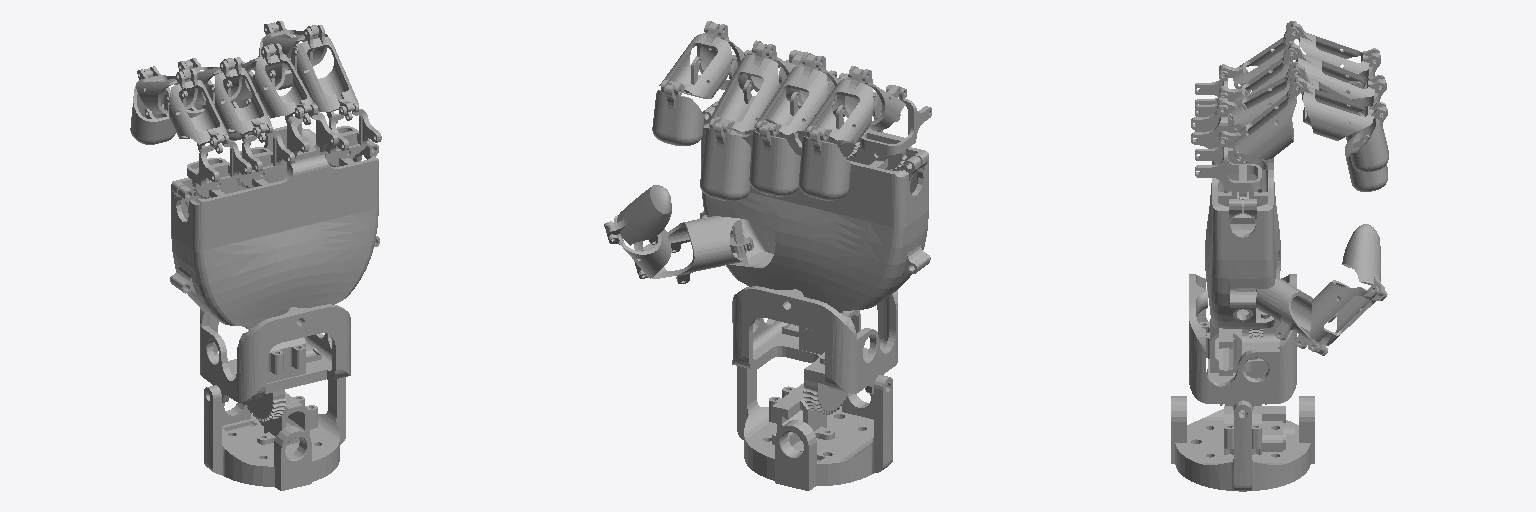
--- Facts derived from the render (not from the file) ---
3 views of the same robot in one strip: view 1: azimuth 30°, elevation 25°; view 2: azimuth 150°, elevation 25°; view 3: azimuth 270°, elevation 25° (orthographic).
Robot: P3_ROS — 21 links, 20 joints (20 revolute); root link AUBO_Base; default pose: all joints at 0 but 14 set to mid-range because 0 is outside their limits (Thumb_MCP = -1.21, Thumb_IP = -0.8858, Index_MCP = -0.855, Index_PIP = -1.08, Index_DIP = -0.9884, Middle_MCP = -1.04, +8 more).
Visible links, largest first — view 1: Knuckle_Holder, Below_Palm, AUBO_Base, I_MCP, P_MCP, M_MCP, R_MCP, P_Below_MCP, R_Below_MCP, I_Below_MCP, P_DIP, P_PIP (+3 smaller); view 2: Knuckle_Holder, Below_Palm, AUBO_Base, T_CMC, M_PIP, M_DIP, R_PIP, I_PIP, R_DIP, P_DIP, P_PIP, I_DIP (+7 smaller); view 3: Knuckle_Holder, AUBO_Base, Below_Palm, I_MCP, T_MCP, I_PIP, T_CMC, I_Below_MCP, R_PIP, T_IP, P_PIP, M_MCP (+5 smaller).
Link boxes in pixels (left/top/right/bottom): Knuckle_Holder: left=170, top=103, right=379, bottom=330; Below_Palm: left=200, top=304, right=350, bottom=421; AUBO_Base: left=204, top=377, right=345, bottom=490; I_MCP: left=297, top=25, right=358, bottom=122; P_MCP: left=169, top=68, right=227, bottom=155; M_MCP: left=255, top=43, right=313, bottom=124; R_MCP: left=215, top=57, right=271, bottom=144; P_Below_MCP: left=187, top=134, right=251, bottom=198; R_Below_MCP: left=236, top=124, right=294, bottom=187; I_Below_MCP: left=325, top=103, right=381, bottom=166; P_DIP: left=130, top=68, right=175, bottom=144; P_PIP: left=136, top=66, right=197, bottom=113; Knuckle_Holder: left=700, top=50, right=930, bottom=330; Below_Palm: left=732, top=286, right=897, bottom=414; AUBO_Base: left=737, top=366, right=892, bottom=490; T_CMC: left=634, top=216, right=753, bottom=283; M_PIP: left=708, top=43, right=778, bottom=133; M_DIP: left=700, top=123, right=750, bottom=200; R_PIP: left=754, top=54, right=827, bottom=136; I_PIP: left=659, top=23, right=731, bottom=98; R_DIP: left=749, top=125, right=800, bottom=196; P_DIP: left=799, top=129, right=850, bottom=200; P_PIP: left=804, top=68, right=872, bottom=143; I_DIP: left=652, top=85, right=704, bottom=145; Knuckle_Holder: left=1191, top=98, right=1280, bottom=338; AUBO_Base: left=1171, top=396, right=1314, bottom=491; Below_Palm: left=1189, top=274, right=1296, bottom=413; I_MCP: left=1219, top=75, right=1302, bottom=162; T_MCP: left=1310, top=280, right=1387, bottom=353; I_PIP: left=1294, top=78, right=1385, bottom=140; T_CMC: left=1256, top=277, right=1327, bottom=355; I_Below_MCP: left=1195, top=131, right=1261, bottom=207; R_PIP: left=1288, top=44, right=1384, bottom=99; T_IP: left=1342, top=224, right=1384, bottom=296; P_PIP: left=1291, top=23, right=1379, bottom=75; M_MCP: left=1218, top=61, right=1301, bottom=132.
Bounding box of the posed robot: 0.1485 × 0.1166 × 0.2467 m (x, y, z).
Meshes: 21 distinct files referenced, 21 mesh visuals loaded (21 binary STL).

robot.urdf — P3_ROS:
<?xml version="1.0" encoding="utf-8"?>
<!-- This URDF was automatically created by SolidWorks to URDF Exporter! Originally created by Stephen Brawner ([email redacted]) 
     Commit Version: 1.6.0-4-g7f85cfe  Build Version: 1.6.7995.38578
     For more information, please see http://wiki.ros.org/sw_urdf_exporter -->
<robot
  name="P3_ROS">
  <link
    name="AUBO_Base">
    <inertial>
      <origin
        xyz="0.00278040178371279 0.0137619089402064 -0.000267427347976779"
        rpy="0 0 0" />
      <mass
        value="0.0536915416174576" />
      <inertia
        ixx="2.70801043475091E-05"
        ixy="-4.02713297525871E-07"
        ixz="2.10419992156217E-07"
        iyy="4.87071775355948E-05"
        iyz="1.75973062686978E-07"
        izz="3.26759005649058E-05" />
    </inertial>
    <visual>
      <origin
        xyz="0 0 0"
        rpy="0 0 0" />
      <geometry>
        <mesh
          filename="package://P3_ROS/meshes/AUBO_Base.STL" />
      </geometry>
      <material
        name="">
        <color
          rgba="0.698039215686274 0.698039215686274 0.698039215686274 1" />
      </material>
    </visual>
    <collision>
      <origin
        xyz="0 0 0"
        rpy="0 0 0" />
      <geometry>
        <mesh
          filename="package://P3_ROS/meshes/AUBO_Base.STL" />
      </geometry>
    </collision>
  </link>
  <link
    name="Below_Palm">
    <inertial>
      <origin
        xyz="-0.00161904873633678 0.0170034509609812 0.000924243542658435"
        rpy="0 0 0" />
      <mass
        value="0.0583769628757469" />
      <inertia
        ixx="4.54620375746746E-05"
        ixy="-3.49858982409835E-07"
        ixz="2.96293190384862E-07"
        iyy="4.71250564940575E-05"
        iyz="-1.72909999743254E-06"
        izz="3.52450763174062E-05" />
    </inertial>
    <visual>
      <origin
        xyz="0 0 0"
        rpy="0 0 0" />
      <geometry>
        <mesh
          filename="package://P3_ROS/meshes/Below_Palm.STL" />
      </geometry>
      <material
        name="">
        <color
          rgba="0.698039215686274 0.698039215686274 0.698039215686274 1" />
      </material>
    </visual>
    <collision>
      <origin
        xyz="0 0 0"
        rpy="0 0 0" />
      <geometry>
        <mesh
          filename="package://P3_ROS/meshes/Below_Palm.STL" />
      </geometry>
    </collision>
  </link>
  <joint
    name="Wrist_2"
    type="revolute">
    <origin
      xyz="0 0 0.049"
      rpy="1.5708 0 1.5708" />
    <parent
      link="AUBO_Base" />
    <child
      link="Below_Palm" />
    <axis
      xyz="0 0 1" />
    <limit
      lower="-1.1294"
      upper="1.2489"
      effort="0"
      velocity="0" />
  </joint>
  <link
    name="Knuckle_Holder">
    <inertial>
      <origin
        xyz="0.00127180755281365 0.0369506250760439 -0.00063534532092032"
        rpy="0 0 0" />
      <mass
        value="0.116848968632615" />
      <inertia
        ixx="0.000126096351062626"
        ixy="7.84970809749604E-06"
        ixz="-2.9838290073608E-06"
        iyy="0.000151450089009521"
        iyz="2.70550323065712E-06"
        izz="0.000236651192540967" />
    </inertial>
    <visual>
      <origin
        xyz="0 0 0"
        rpy="0 0 0" />
      <geometry>
        <mesh
          filename="package://P3_ROS/meshes/Knuckle_Holder.STL" />
      </geometry>
      <material
        name="">
        <color
          rgba="0.698039215686274 0.698039215686274 0.698039215686274 1" />
      </material>
    </visual>
    <collision>
      <origin
        xyz="0 0 0"
        rpy="0 0 0" />
      <geometry>
        <mesh
          filename="package://P3_ROS/meshes/Knuckle_Holder.STL" />
      </geometry>
    </collision>
  </link>
  <joint
    name="Wrist_1"
    type="revolute">
    <origin
      xyz="0 0.048 0.0027545"
      rpy="0 1.5708 0" />
    <parent
      link="Below_Palm" />
    <child
      link="Knuckle_Holder" />
    <axis
      xyz="0 0 1" />
    <limit
      lower="-0.41544"
      upper="0.41544"
      effort="0"
      velocity="0" />
  </joint>
  <link
    name="T_CMC">
    <inertial>
      <origin
        xyz="-0.0188547439499926 0.0171938818918783 -0.02142438462294"
        rpy="0 0 0" />
      <mass
        value="0.00757646844060059" />
      <inertia
        ixx="1.8547197356156E-06"
        ixy="3.95328998638882E-08"
        ixz="-4.21686926967571E-08"
        iyy="8.95427700424448E-07"
        iyz="-2.71565458332892E-07"
        izz="2.01850506438788E-06" />
    </inertial>
    <visual>
      <origin
        xyz="0 0 0"
        rpy="0 0 0" />
      <geometry>
        <mesh
          filename="package://P3_ROS/meshes/T_CMC.STL" />
      </geometry>
      <material
        name="">
        <color
          rgba="0.698039215686274 0.698039215686274 0.698039215686274 1" />
      </material>
    </visual>
    <collision>
      <origin
        xyz="0 0 0"
        rpy="0 0 0" />
      <geometry>
        <mesh
          filename="package://P3_ROS/meshes/T_CMC.STL" />
      </geometry>
    </collision>
  </link>
  <joint
    name="Thumb_CMC"
    type="revolute">
    <origin
      xyz="-0.03389 -0.0067732 0.011594"
      rpy="2.1814 -0.59941 -0.7352" />
    <parent
      link="Knuckle_Holder" />
    <child
      link="T_CMC" />
    <axis
      xyz="0.64279 0 0.76604" />
    <limit
      lower="-1.5708"
      upper="0"
      effort="0"
      velocity="0" />
  </joint>
  <link
    name="T_MCP">
    <inertial>
      <origin
        xyz="-0.0191724859142255 0.0222044167762714 -0.0105839597746515"
        rpy="0 0 0" />
      <mass
        value="0.00341830832417688" />
      <inertia
        ixx="5.43824756092306E-07"
        ixy="4.39696982794731E-12"
        ixz="-1.36130893885665E-11"
        iyy="4.21320145077056E-07"
        iyz="1.45881129591116E-08"
        izz="6.4153361173526E-07" />
    </inertial>
    <visual>
      <origin
        xyz="0 0 0"
        rpy="0 0 0" />
      <geometry>
        <mesh
          filename="package://P3_ROS/meshes/T_MCP.STL" />
      </geometry>
      <material
        name="">
        <color
          rgba="0.698039215686274 0.698039215686274 0.698039215686274 1" />
      </material>
    </visual>
    <collision>
      <origin
        xyz="0 0 0"
        rpy="0 0 0" />
      <geometry>
        <mesh
          filename="package://P3_ROS/meshes/T_MCP.STL" />
      </geometry>
    </collision>
  </link>
  <joint
    name="Thumb_MCP"
    type="revolute">
    <origin
      xyz="0 0.051 -0.011349"
      rpy="0.024222 0 0" />
    <parent
      link="T_CMC" />
    <child
      link="T_MCP" />
    <axis
      xyz="1 0 0" />
    <limit
      lower="-1.5528"
      upper="-0.86457"
      effort="0"
      velocity="0" />
  </joint>
  <link
    name="T_IP">
    <inertial>
      <origin
        xyz="-0.019153877270479 0.0208567015566215 -0.011166175758786"
        rpy="0 0 0" />
      <mass
        value="0.00367311050909873" />
      <inertia
        ixx="3.21810615947136E-07"
        ixy="2.91776079744812E-11"
        ixz="-5.04769074712269E-10"
        iyy="2.60686503696625E-07"
        iyz="7.12951435821031E-08"
        izz="3.29785541515355E-07" />
    </inertial>
    <visual>
      <origin
        xyz="0 0 0"
        rpy="0 0 0" />
      <geometry>
        <mesh
          filename="package://P3_ROS/meshes/T_IP.STL" />
      </geometry>
      <material
        name="">
        <color
          rgba="0.698039215686274 0.698039215686274 0.698039215686274 1" />
      </material>
    </visual>
    <collision>
      <origin
        xyz="0 0 0"
        rpy="0 0 0" />
      <geometry>
        <mesh
          filename="package://P3_ROS/meshes/T_IP.STL" />
      </geometry>
    </collision>
  </link>
  <joint
    name="Thumb_IP"
    type="revolute">
    <origin
      xyz="0 0.0465 0"
      rpy="0.0052649 0 0" />
    <parent
      link="T_MCP" />
    <child
      link="T_IP" />
    <axis
      xyz="1 0 0" />
    <limit
      lower="-1.23306"
      upper="-0.538504"
      effort="0"
      velocity="0" />
  </joint>
  <link
    name="I_Below_MCP">
    <inertial>
      <origin
        xyz="-1.91332690316348E-08 0.00523994189276999 0.00438611499640017"
        rpy="0 0 0" />
      <mass
        value="0.00534951941489969" />
      <inertia
        ixx="7.32906606259805E-07"
        ixy="-1.39714191646785E-14"
        ixz="-8.65569458872673E-12"
        iyy="6.96470076212018E-07"
        iyz="-2.16946811935413E-07"
        izz="7.16960840620401E-07" />
    </inertial>
    <visual>
      <origin
        xyz="0 0 0"
        rpy="0 0 0" />
      <geometry>
        <mesh
          filename="package://P3_ROS/meshes/I_Below_MCP.STL" />
      </geometry>
      <material
        name="">
        <color
          rgba="0.698039215686274 0.698039215686274 0.698039215686274 1" />
      </material>
    </visual>
    <collision>
      <origin
        xyz="0 0 0"
        rpy="0 0 0" />
      <geometry>
        <mesh
          filename="package://P3_ROS/meshes/I_Below_MCP.STL" />
      </geometry>
    </collision>
  </link>
  <joint
    name="Index_Below_MCP"
    type="revolute">
    <origin
      xyz="-0.042 0.087 0"
      rpy="3.1416 0 -3.1416" />
    <parent
      link="Knuckle_Holder" />
    <child
      link="I_Below_MCP" />
    <axis
      xyz="0 0 1" />
    <limit
      lower="-0.52018"
      upper="0"
      effort="0"
      velocity="0" />
  </joint>
  <link
    name="I_MCP">
    <inertial>
      <origin
        xyz="1.60706075696959E-07 0.0214534559005647 -0.0126089340150891"
        rpy="0 0 0" />
      <mass
        value="0.0042784827079899" />
      <inertia
        ixx="8.95459066830798E-07"
        ixy="5.52207282220504E-13"
        ixz="1.00727231307694E-11"
        iyy="5.21814062850473E-07"
        iyz="-2.37787524308387E-08"
        izz="1.02538663795254E-06" />
    </inertial>
    <visual>
      <origin
        xyz="0 0 0"
        rpy="0 0 0" />
      <geometry>
        <mesh
          filename="package://P3_ROS/meshes/I_MCP.STL" />
      </geometry>
      <material
        name="">
        <color
          rgba="0.698039215686274 0.698039215686274 0.698039215686274 1" />
      </material>
    </visual>
    <collision>
      <origin
        xyz="0 0 0"
        rpy="0 0 0" />
      <geometry>
        <mesh
          filename="package://P3_ROS/meshes/I_MCP.STL" />
      </geometry>
    </collision>
  </link>
  <joint
    name="Index_MCP"
    type="revolute">
    <origin
      xyz="0 0.028 0.0105"
      rpy="0 0 0" />
    <parent
      link="I_Below_MCP" />
    <child
      link="I_MCP" />
    <axis
      xyz="1 0 0" />
    <limit
      lower="-1.3654"
      upper="-0.34457"
      effort="0"
      velocity="0" />
  </joint>
  <link
    name="I_PIP">
    <inertial>
      <origin
        xyz="0.0104745637601555 0.0225277058184466 -5.84985698770524E-08"
        rpy="0 0 0" />
      <mass
        value="0.00371498527382687" />
      <inertia
        ixx="7.38341931114289E-07"
        ixy="-4.06415607145458E-09"
        ixz="-1.83681530443573E-11"
        iyy="4.59557692097787E-07"
        iyz="3.38393387626485E-12"
        izz="6.17675084887777E-07" />
    </inertial>
    <visual>
      <origin
        xyz="0 0 0"
        rpy="0 0 0" />
      <geometry>
        <mesh
          filename="package://P3_ROS/meshes/I_PIP.STL" />
      </geometry>
      <material
        name="">
        <color
          rgba="0.698039215686274 0.698039215686274 0.698039215686274 1" />
      </material>
    </visual>
    <collision>
      <origin
        xyz="0 0 0"
        rpy="0 0 0" />
      <geometry>
        <mesh
          filename="package://P3_ROS/meshes/I_PIP.STL" />
      </geometry>
    </collision>
  </link>
  <joint
    name="Index_PIP"
    type="revolute">
    <origin
      xyz="0 0.051 -0.00225"
      rpy="1.5708 1.5514 1.5708" />
    <parent
      link="I_MCP" />
    <child
      link="I_PIP" />
    <axis
      xyz="0 0 1" />
    <limit
      lower="-1.4455"
      upper="-0.7113"
      effort="0"
      velocity="0" />
  </joint>
  <link
    name="I_DIP">
    <inertial>
      <origin
        xyz="0.0102174474149143 0.0199762603712053 2.46091446727548E-07"
        rpy="0 0 0" />
      <mass
        value="0.00425159376419967" />
      <inertia
        ixx="4.98356420749076E-07"
        ixy="-9.57564593733141E-08"
        ixz="1.60587365235624E-11"
        iyy="4.23167175698519E-07"
        iyz="1.30948453717986E-11"
        izz="4.28705970306008E-07" />
    </inertial>
    <visual>
      <origin
        xyz="0 0 0"
        rpy="0 0 0" />
      <geometry>
        <mesh
          filename="package://P3_ROS/meshes/I_DIP.STL" />
      </geometry>
      <material
        name="">
        <color
          rgba="0.698039215686274 0.698039215686274 0.698039215686274 1" />
      </material>
    </visual>
    <collision>
      <origin
        xyz="0 0 0"
        rpy="0 0 0" />
      <geometry>
        <mesh
          filename="package://P3_ROS/meshes/I_DIP.STL" />
      </geometry>
    </collision>
  </link>
  <joint
    name="Index_DIP"
    type="revolute">
    <origin
      xyz="0 0.048 0"
      rpy="0 0 -0.019349" />
    <parent
      link="I_PIP" />
    <child
      link="I_DIP" />
    <axis
      xyz="0 0 1" />
    <limit
      lower="-1.337445"
      upper="-0.6394"
      effort="0"
      velocity="0" />
  </joint>
  <link
    name="M_MCP">
    <inertial>
      <origin
        xyz="0.0130000993756648 0.0194738060288053 -0.0122615751764491"
        rpy="0 0 0" />
      <mass
        value="0.00356183832705754" />
      <inertia
        ixx="6.33645316662712E-07"
        ixy="-7.48322283457872E-13"
        ixz="6.42992202281087E-13"
        iyy="4.32226138228889E-07"
        iyz="-2.1398582434494E-08"
        izz="7.46627420187009E-07" />
    </inertial>
    <visual>
      <origin
        xyz="0 0 0"
        rpy="0 0 0" />
      <geometry>
        <mesh
          filename="package://P3_ROS/meshes/M_MCP.STL" />
      </geometry>
      <material
        name="">
        <color
          rgba="0.698039215686274 0.698039215686274 0.698039215686274 1" />
      </material>
    </visual>
    <collision>
      <origin
        xyz="0 0 0"
        rpy="0 0 0" />
      <geometry>
        <mesh
          filename="package://P3_ROS/meshes/M_MCP.STL" />
      </geometry>
    </collision>
  </link>
  <joint
    name="Middle_MCP"
    type="revolute">
    <origin
      xyz="-0.001 0.121 -0.01094"
      rpy="3.1416 0 -3.1416" />
    <parent
      link="Knuckle_Holder" />
    <child
      link="M_MCP" />
    <axis
      xyz="1 0 0" />
    <limit
      lower="-1.4628"
      upper="-0.61793"
      effort="0"
      velocity="0" />
  </joint>
  <link
    name="M_PIP">
    <inertial>
      <origin
        xyz="0.0129994238022933 0.0252582720879362 -0.0108332662698445"
        rpy="0 0 0" />
      <mass
        value="0.0042553891681153" />
      <inertia
        ixx="8.07748529628043E-07"
        ixy="4.68568994911255E-11"
        ixz="-3.58312710518182E-11"
        iyy="5.2753515678823E-07"
        iyz="3.2166787078737E-08"
        izz="9.1440891219387E-07" />
    </inertial>
    <visual>
      <origin
        xyz="0 0 0"
        rpy="0 0 0" />
      <geometry>
        <mesh
          filename="package://P3_ROS/meshes/M_PIP.STL" />
      </geometry>
      <material
        name="">
        <color
          rgba="0.698039215686274 0.698039215686274 0.698039215686274 1" />
      </material>
    </visual>
    <collision>
      <origin
        xyz="0 0 0"
        rpy="0 0 0" />
      <geometry>
        <mesh
          filename="package://P3_ROS/meshes/M_PIP.STL" />
      </geometry>
    </collision>
  </link>
  <joint
    name="Middle_PIP"
    type="revolute">
    <origin
      xyz="0 0.045 -0.00225"
      rpy="0 0 0" />
    <parent
      link="M_MCP" />
    <child
      link="M_PIP" />
    <axis
      xyz="1 0 0" />
    <limit
      lower="-1.40814"
      upper="-0.74815"
      effort="0"
      velocity="0" />
  </joint>
  <link
    name="M_DIP">
    <inertial>
      <origin
        xyz="0.0129999509487357 0.0249602568688863 -0.0106926657966948"
        rpy="0 0 0" />
      <mass
        value="0.00577415599836008" />
      <inertia
        ixx="8.72036436536961E-07"
        ixy="1.19263359390556E-12"
        ixz="-3.90884366578215E-12"
        iyy="6.22688915702931E-07"
        iyz="1.33056795383682E-07"
        izz="9.77941426673379E-07" />
    </inertial>
    <visual>
      <origin
        xyz="0 0 0"
        rpy="0 0 0" />
      <geometry>
        <mesh
          filename="package://P3_ROS/meshes/M_DIP.STL" />
      </geometry>
      <material
        name="">
        <color
          rgba="0.698039215686274 0.698039215686274 0.698039215686274 1" />
      </material>
    </visual>
    <collision>
      <origin
        xyz="0 0 0"
        rpy="0 0 0" />
      <geometry>
        <mesh
          filename="package://P3_ROS/meshes/M_DIP.STL" />
      </geometry>
    </collision>
  </link>
  <joint
    name="Middle_DIP"
    type="revolute">
    <origin
      xyz="0 0.0515 0"
      rpy="0 0 0" />
    <parent
      link="M_PIP" />
    <child
      link="M_DIP" />
    <axis
      xyz="1 0 0" />
    <limit
      lower="-1.18872"
      upper="-0.45629"
      effort="0"
      velocity="0" />
  </joint>
  <link
    name="R_Below_MCP">
    <inertial>
      <origin
        xyz="1.38844317265421E-05 0.00524049779639665 -0.00438623992796771"
        rpy="0 0 0" />
      <mass
        value="0.00534942423056677" />
      <inertia
        ixx="7.32859981842569E-07"
        ixy="5.24609861584903E-10"
        ixz="-3.19407087097254E-10"
        iyy="6.96474845170847E-07"
        iyz="2.16933899555169E-07"
        izz="7.16930179843202E-07" />
    </inertial>
    <visual>
      <origin
        xyz="0 0 0"
        rpy="0 0 0" />
      <geometry>
        <mesh
          filename="package://P3_ROS/meshes/R_Below_MCP.STL" />
      </geometry>
      <material
        name="">
        <color
          rgba="0.698039215686274 0.698039215686274 0.698039215686274 1" />
      </material>
    </visual>
    <collision>
      <origin
        xyz="0 0 0"
        rpy="0 0 0" />
      <geometry>
        <mesh
          filename="package://P3_ROS/meshes/R_Below_MCP.STL" />
      </geometry>
    </collision>
  </link>
  <joint
    name="Ring_Below_MCP"
    type="revolute">
    <origin
      xyz="0.014 0.087 0"
      rpy="0 0 0" />
    <parent
      link="Knuckle_Holder" />
    <child
      link="R_Below_MCP" />
    <axis
      xyz="0 0 1" />
    <limit
      lower="-0.52018"
      upper="0"
      effort="0"
      velocity="0" />
  </joint>
  <link
    name="R_MCP">
    <inertial>
      <origin
        xyz="-4.65256594625596E-07 0.0189676045429669 -0.0120949901547308"
        rpy="0 0 0" />
      <mass
        value="0.00326985606176487" />
      <inertia
        ixx="5.88389022236639E-07"
        ixy="1.46189274353886E-11"
        ixz="-2.92986706885711E-11"
        iyy="3.86293542414919E-07"
        iyz="-2.05284784668316E-08"
        izz="6.57972639542673E-07" />
    </inertial>
    <visual>
      <origin
        xyz="0 0 0"
        rpy="0 0 0" />
      <geometry>
        <mesh
          filename="package://P3_ROS/meshes/R_MCP.STL" />
      </geometry>
      <material
        name="">
        <color
          rgba="0.698039215686274 0.698039215686274 0.698039215686274 1" />
      </material>
    </visual>
    <collision>
      <origin
        xyz="0 0 0"
        rpy="0 0 0" />
      <geometry>
        <mesh
          filename="package://P3_ROS/meshes/R_MCP.STL" />
      </geometry>
    </collision>
  </link>
  <joint
    name="Ring_MCP"
    type="revolute">
    <origin
      xyz="0 0.028 -0.0105"
      rpy="3.1416 0 3.1416" />
    <parent
      link="R_Below_MCP" />
    <child
      link="R_MCP" />
    <axis
      xyz="1 0 0" />
    <limit
      lower="-1.356995"
      upper="-0.470253"
      effort="0"
      velocity="0" />
  </joint>
  <link
    name="R_PIP">
    <inertial>
      <origin
        xyz="1.53922076234075E-06 0.023310450256673 -0.00984437691935296"
        rpy="0 0 0" />
      <mass
        value="0.00384900712618792" />
      <inertia
        ixx="7.15539545157502E-07"
        ixy="-4.66393665863244E-11"
        ixz="5.13601987777356E-11"
        iyy="4.60134113785076E-07"
        iyz="1.20538888918569E-08"
        izz="8.05246178054023E-07" />
    </inertial>
    <visual>
      <origin
        xyz="0 0 0"
        rpy="0 0 0" />
      <geometry>
        <mesh
          filename="package://P3_ROS/meshes/R_PIP.STL" />
      </geometry>
      <material
        name="">
        <color
          rgba="0.698039215686274 0.698039215686274 0.698039215686274 1" />
      </material>
    </visual>
    <collision>
      <origin
        xyz="0 0 0"
        rpy="0 0 0" />
      <geometry>
        <mesh
          filename="package://P3_ROS/meshes/R_PIP.STL" />
      </geometry>
    </collision>
  </link>
  <joint
    name="Ring_PIP"
    type="revolute">
    <origin
      xyz="0 0.045 -0.00225"
      rpy="0 0 0" />
    <parent
      link="R_MCP" />
    <child
      link="R_PIP" />
    <axis
      xyz="1 0 0" />
    <limit
      lower="-1.419486"
      upper="-0.691415"
      effort="0"
      velocity="0" />
  </joint>
  <link
    name="R_DIP">
    <inertial>
      <origin
        xyz="2.09227845606244E-07 0.024421248294507 -0.010469334340024"
        rpy="0 0 0" />
      <mass
        value="0.00511134145781505" />
      <inertia
        ixx="6.74826649967002E-07"
        ixy="1.29937901533371E-11"
        ixz="-3.05204360154962E-11"
        iyy="5.28552356982958E-07"
        iyz="1.26608709839672E-07"
        izz="7.46443382031746E-07" />
    </inertial>
    <visual>
      <origin
        xyz="0 0 0"
        rpy="0 0 0" />
      <geometry>
        <mesh
          filename="package://P3_ROS/meshes/R_DIP.STL" />
      </geometry>
      <material
        name="">
        <color
          rgba="0.698039215686274 0.698039215686274 0.698039215686274 1" />
      </material>
    </visual>
    <collision>
      <origin
        xyz="0 0 0"
        rpy="0 0 0" />
      <geometry>
        <mesh
          filename="package://P3_ROS/meshes/R_DIP.STL" />
      </geometry>
    </collision>
  </link>
  <joint
    name="Ring_DIP"
    type="revolute">
    <origin
      xyz="0 0.0515 0"
      rpy="0 0 0" />
    <parent
      link="R_PIP" />
    <child
      link="R_DIP" />
    <axis
      xyz="1 0 0" />
    <limit
      lower="-1.396095"
      upper="-0.708346"
      effort="0"
      velocity="0" />
  </joint>
  <link
    name="P_Below_MCP">
    <inertial>
      <origin
        xyz="8.41060112070913E-06 0.00526126613307609 -0.00439536374453332"
        rpy="0 0 0" />
      <mass
        value="0.00533831973770942" />
      <inertia
        ixx="7.31356207626987E-07"
        ixy="3.54914233705556E-10"
        ixz="-1.91691840441875E-10"
        iyy="6.9519118586746E-07"
        iyz="2.1644634707244E-07"
        izz="7.14609570286138E-07" />
    </inertial>
    <visual>
      <origin
        xyz="0 0 0"
        rpy="0 0 0" />
      <geometry>
        <mesh
          filename="package://P3_ROS/meshes/P_Below_MCP.STL" />
      </geometry>
      <material
        name="">
        <color
          rgba="0.698039215686274 0.698039215686274 0.698039215686274 1" />
      </material>
    </visual>
    <collision>
      <origin
        xyz="0 0 0"
        rpy="0 0 0" />
      <geometry>
        <mesh
          filename="package://P3_ROS/meshes/P_Below_MCP.STL" />
      </geometry>
    </collision>
  </link>
  <joint
    name="Pinky_Below_MCP"
    type="revolute">
    <origin
      xyz="0.042 0.087 0"
      rpy="0 0 0" />
    <parent
      link="Knuckle_Holder" />
    <child
      link="P_Below_MCP" />
    <axis
      xyz="0 0 1" />
    <limit
      lower="-0.74186"
      upper="0"
      effort="0"
      velocity="0" />
  </joint>
  <link
    name="P_MCP">
    <inertial>
      <origin
        xyz="-2.62886995769374E-07 0.0207434675492707 -0.011885339397321"
        rpy="0 0 0" />
      <mass
        value="0.00321336885733434" />
      <inertia
        ixx="6.01915424286415E-07"
        ixy="1.56668207946324E-11"
        ixz="-1.73583370408102E-11"
        iyy="3.7581939994914E-07"
        iyz="7.42197186572937E-09"
        izz="6.71567299326979E-07" />
    </inertial>
    <visual>
      <origin
        xyz="0 0 0"
        rpy="0 0 0" />
      <geometry>
        <mesh
          filename="package://P3_ROS/meshes/P_MCP.STL" />
      </geometry>
      <material
        name="">
        <color
          rgba="0.698039215686274 0.698039215686274 0.698039215686274 1" />
      </material>
    </visual>
    <collision>
      <origin
        xyz="0 0 0"
        rpy="0 0 0" />
      <geometry>
        <mesh
          filename="package://P3_ROS/meshes/P_MCP.STL" />
      </geometry>
    </collision>
  </link>
  <joint
    name="Pinky_MCP"
    type="revolute">
    <origin
      xyz="0 0.028 -0.0105"
      rpy="3.1416 0 3.1416" />
    <parent
      link="P_Below_MCP" />
    <child
      link="P_MCP" />
    <axis
      xyz="1 0 0" />
    <limit
      lower="-1.4134"
      upper="-0.46659"
      effort="0"
      velocity="0" />
  </joint>
  <link
    name="P_PIP">
    <inertial>
      <origin
        xyz="9.0053990615957E-07 0.0224316850854916 -0.00994106588374115"
        rpy="0 0 0" />
      <mass
        value="0.00337816858545398" />
      <inertia
        ixx="5.58901296964282E-07"
        ixy="7.55022683985797E-11"
        ixz="-7.14447678655336E-11"
        iyy="4.08812318893672E-07"
        iyz="1.14510097354083E-08"
        izz="6.47621020420649E-07" />
    </inertial>
    <visual>
      <origin
        xyz="0 0 0"
        rpy="0 0 0" />
      <geometry>
        <mesh
          filename="package://P3_ROS/meshes/P_PIP.STL" />
      </geometry>
      <material
        name="">
        <color
          rgba="0.698039215686274 0.698039215686274 0.698039215686274 1" />
      </material>
    </visual>
    <collision>
      <origin
        xyz="0 0 0"
        rpy="0 0 0" />
      <geometry>
        <mesh
          filename="package://P3_ROS/meshes/P_PIP.STL" />
      </geometry>
    </collision>
  </link>
  <joint
    name="Pinky_PIP"
    type="revolute">
    <origin
      xyz="0 0.0455 -0.00225"
      rpy="0 0 0" />
    <parent
      link="P_MCP" />
    <child
      link="P_PIP" />
    <axis
      xyz="1 0 0" />
    <limit
      lower="-1.32104"
      upper="-0.67483"
      effort="0"
      velocity="0" />
  </joint>
  <link
    name="P_DIP">
    <inertial>
      <origin
        xyz="2.94313484042186E-07 0.0238464231963276 -0.0104224927451851"
        rpy="0 0 0" />
      <mass
        value="0.00496289403479215" />
      <inertia
        ixx="6.31036277552133E-07"
        ixy="7.27355340203463E-12"
        ixz="3.00457466880974E-11"
        iyy="5.10039953410707E-07"
        iyz="1.22677990250329E-07"
        izz="7.00197724499799E-07" />
    </inertial>
    <visual>
      <origin
        xyz="0 0 0"
        rpy="0 0 0" />
      <geometry>
        <mesh
          filename="package://P3_ROS/meshes/P_DIP.STL" />
      </geometry>
      <material
        name="">
        <color
          rgba="0.698039215686274 0.698039215686274 0.698039215686274 1" />
      </material>
    </visual>
    <collision>
      <origin
        xyz="0 0 0"
        rpy="0 0 0" />
      <geometry>
        <mesh
          filename="package://P3_ROS/meshes/P_DIP.STL" />
      </geometry>
    </collision>
  </link>
  <joint
    name="Pinky_DIP"
    type="revolute">
    <origin
      xyz="0 0.0465 0"
      rpy="0 0 0" />
    <parent
      link="P_PIP" />
    <child
      link="P_DIP" />
    <axis
      xyz="1 0 0" />
    <limit
      lower="-1.38702"
      upper="-0.70765"
      effort="0"
      velocity="0" />
  </joint>
</robot>
